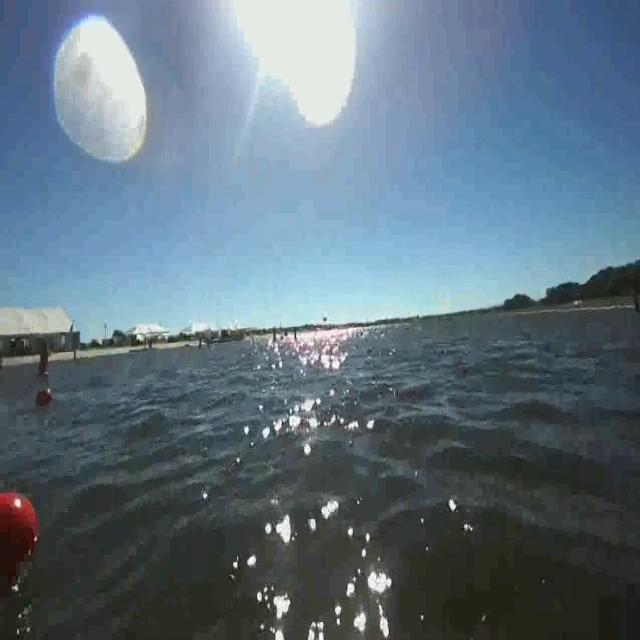red-buoy: (1, 495, 38, 577), (37, 388, 51, 406)
